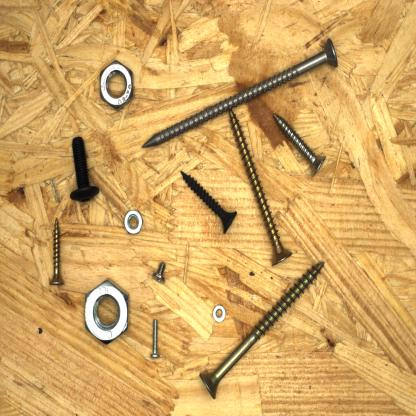screw: (140, 37, 343, 152), (197, 257, 327, 401), (178, 167, 242, 235), (272, 111, 330, 180), (68, 134, 101, 207), (46, 217, 66, 289), (148, 316, 164, 362), (150, 258, 168, 287)
